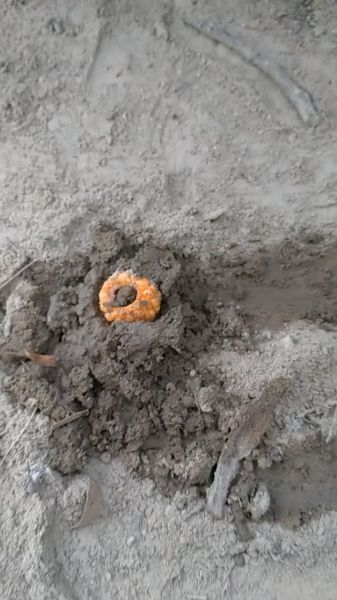eggs: (95, 264, 166, 327)
